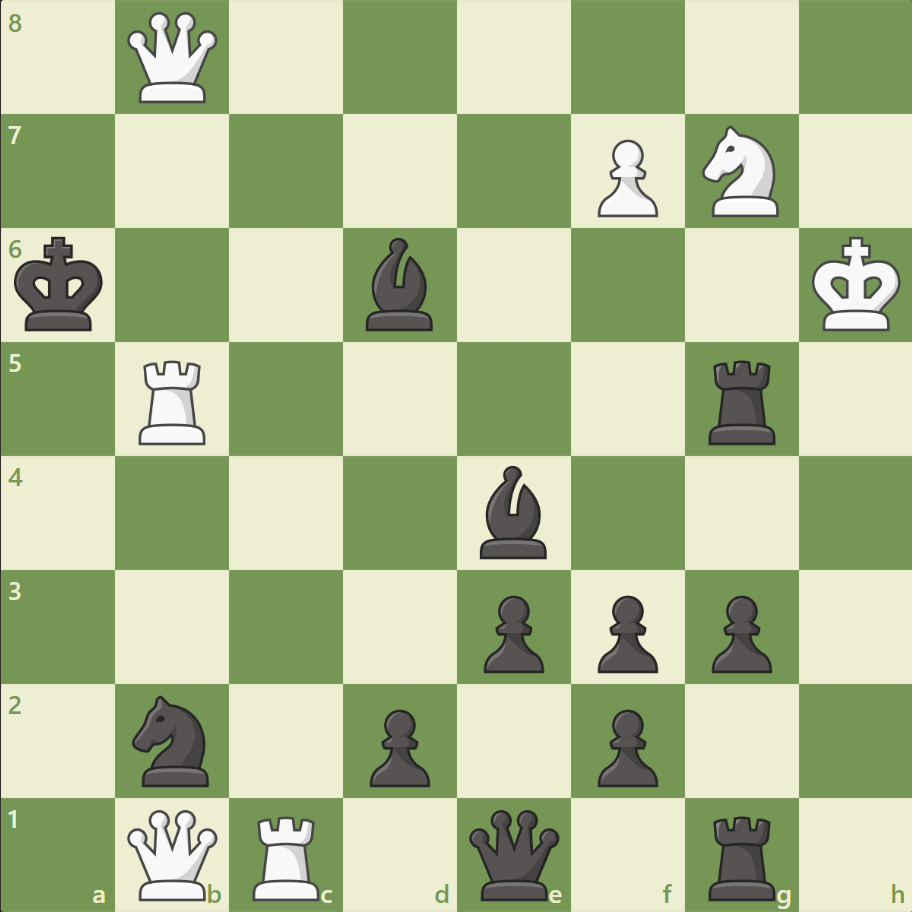K: (806, 231, 906, 339)
N: (692, 121, 789, 223)
P: (588, 132, 662, 223)
Q: (124, 9, 223, 108), (124, 804, 223, 903)
R: (246, 806, 329, 904), (133, 352, 215, 449)
b: (358, 233, 442, 336), (471, 460, 555, 563)
k: (11, 231, 111, 339)
n: (124, 688, 222, 791)
p: (474, 586, 549, 677), (701, 586, 776, 677), (588, 586, 662, 677), (361, 700, 435, 791), (588, 700, 662, 791)
q: (464, 804, 563, 903)
r: (700, 806, 783, 904), (700, 352, 783, 449)
